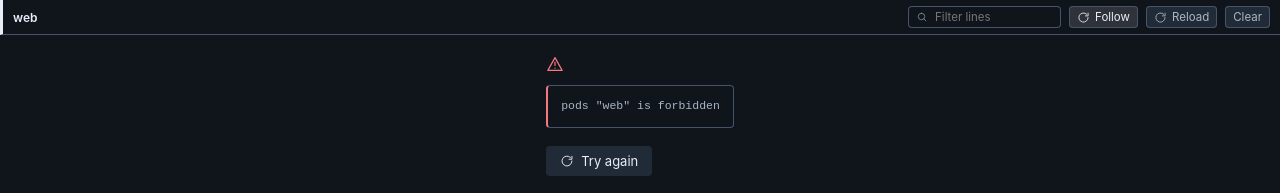
Test case: a view that would not open can be retried from where it failed
Check: the text "pods \"web\" is forbidden" is shown, box [546,85,734,128]
Click the button "Try again" at [599, 161], box [546,146,652,176]
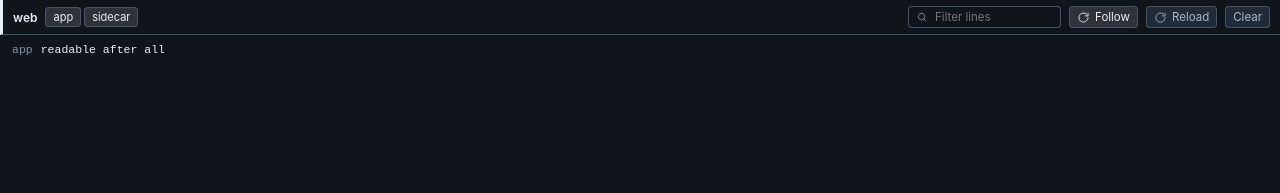
Check: the text "readable after all" is shown, box [41,43,165,56]
